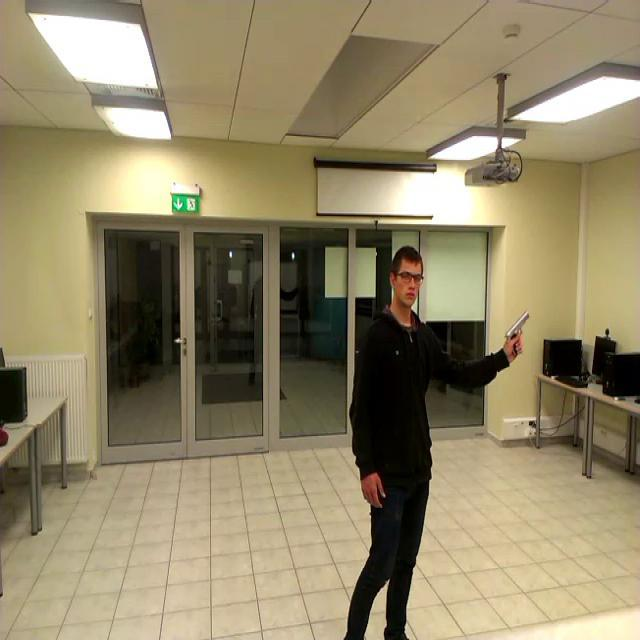Gun: (506, 309, 530, 355)
